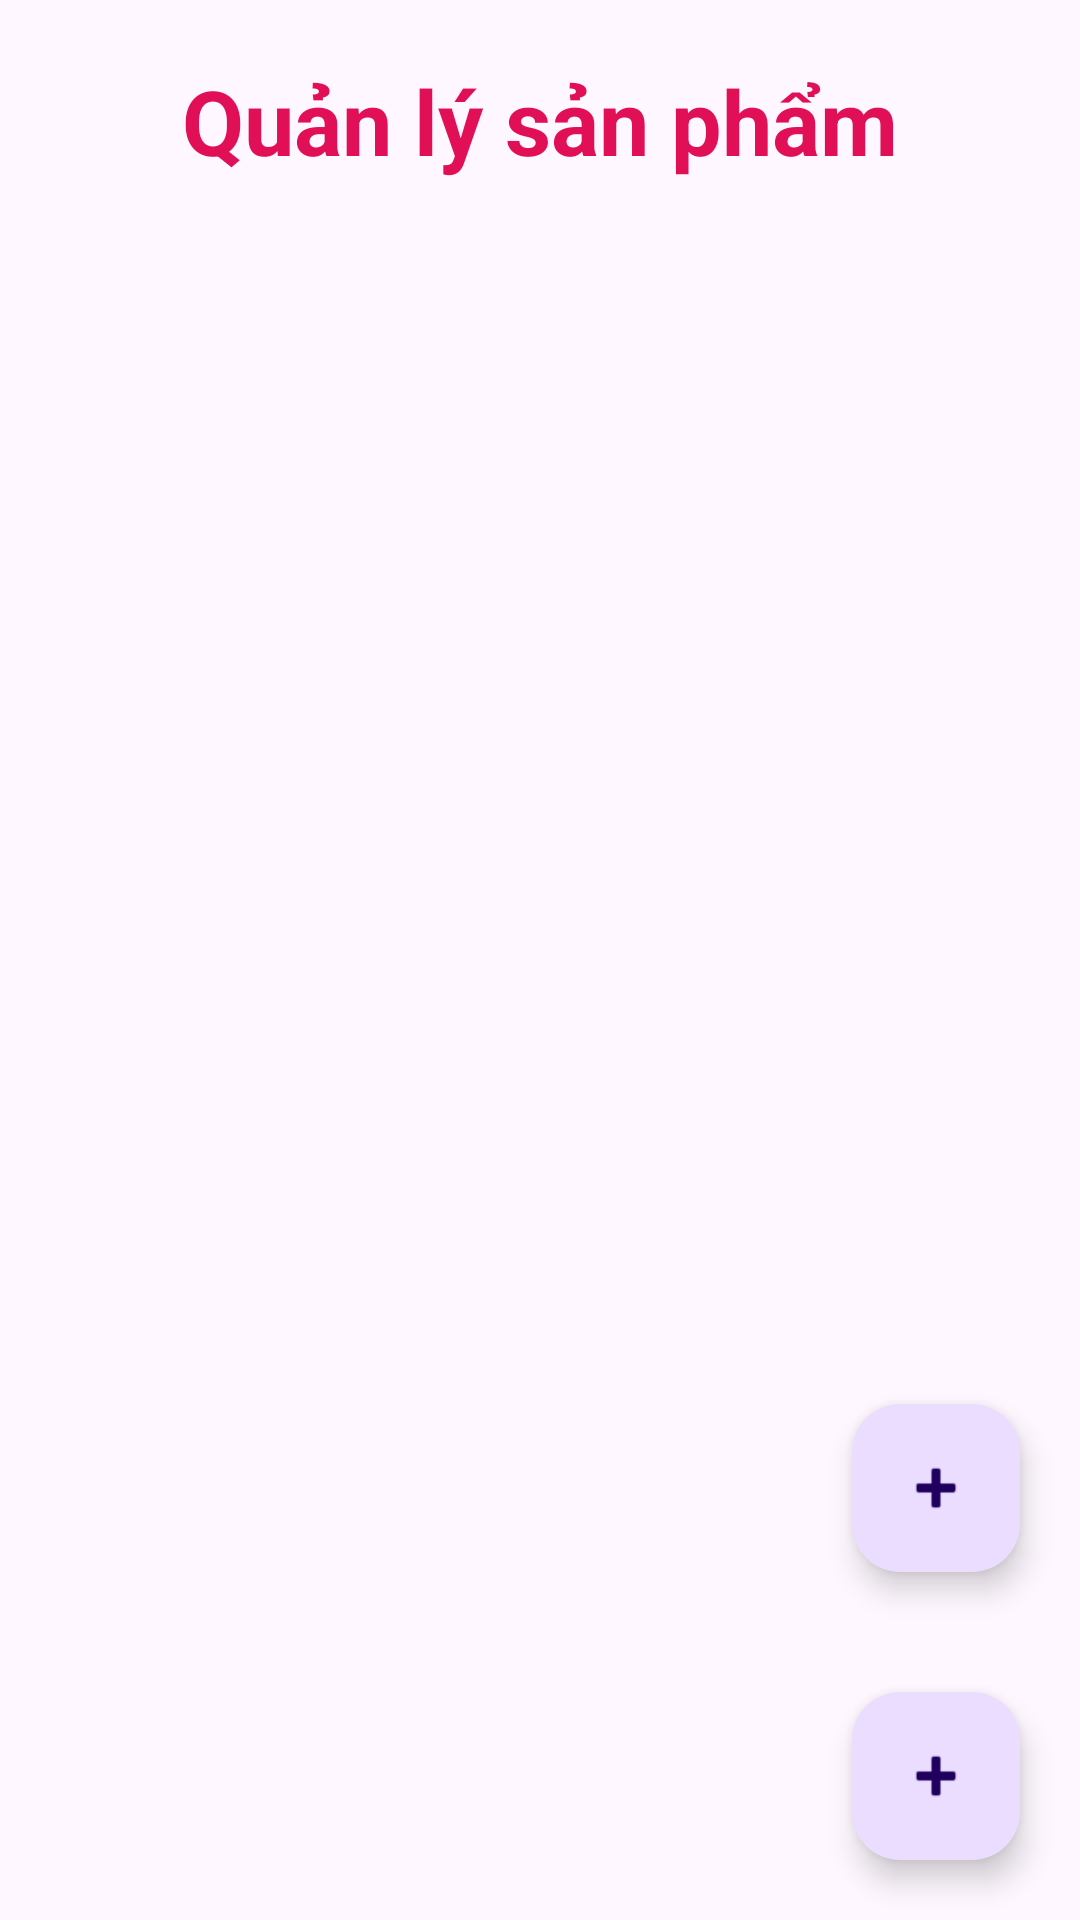

Icon click points for this 1080px x 1920px phone screenshot, format point (x, y):
add: point (936, 1488), point (936, 1776)
